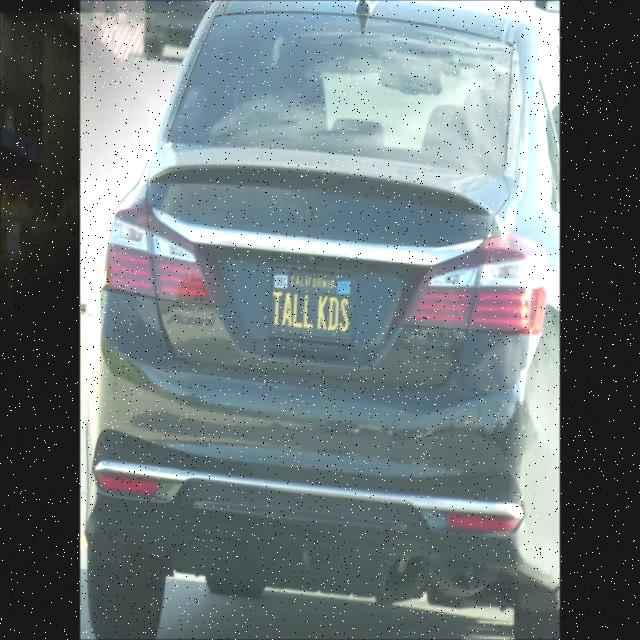licenseplate: (266, 252, 362, 368)
